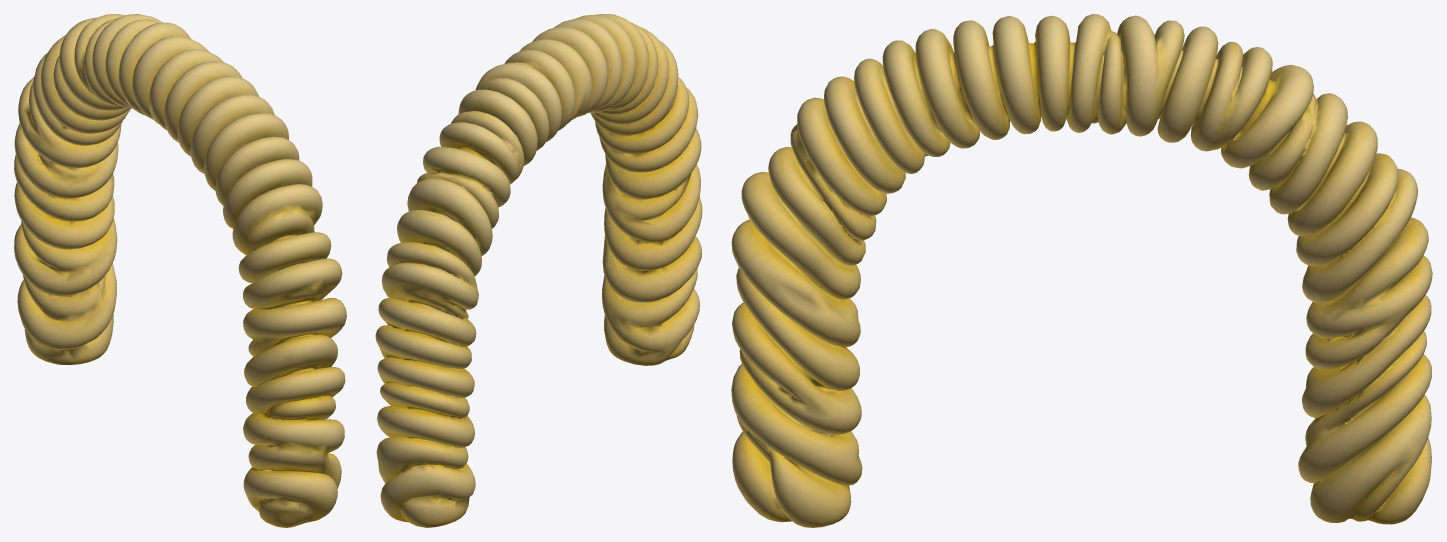
Rendered from bk-decor-shell-border.glb.
The picture shows the model from 3 angles, left to right: view 1: azimuth 30°, elevation 25°; view 2: azimuth 150°, elevation 25°; view 3: azimuth 270°, elevation 25°; orthographic projection. The views are drawn at different scales.
Visible parts, largest first — view 1: node_0; view 2: node_0; view 3: node_0.
Boxes of the visible parts, <box> form: node_0: <box>14,14,346,527</box>; node_0: <box>375,14,702,527</box>; node_0: <box>731,14,1432,527</box>.
Size of the model in its own units: 0.1807 by 0.7617 by 0.9886.
1 material, 1 textured.
